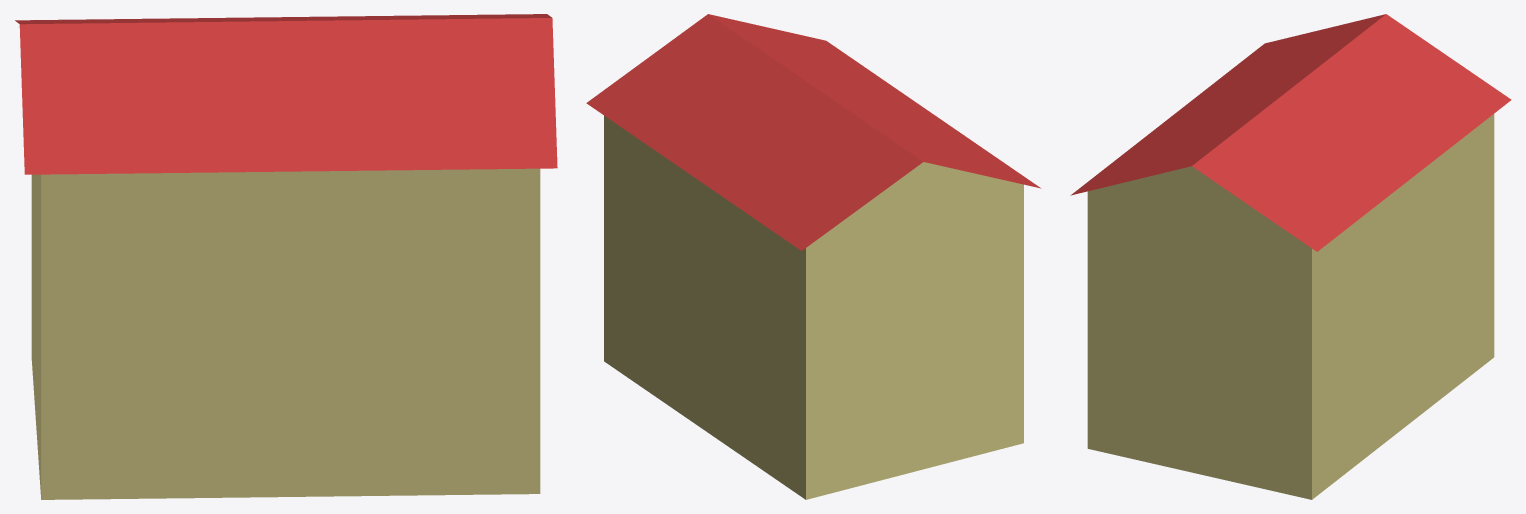
3 views of the same model, side by side, from view 1: azimuth 30°, elevation 25°; view 2: azimuth 150°, elevation 25°; view 3: azimuth 270°, elevation 25° (orthographic). The views are drawn at different scales.
Size of the model in its own units: 19.02 by 17.01 by 13.29.
